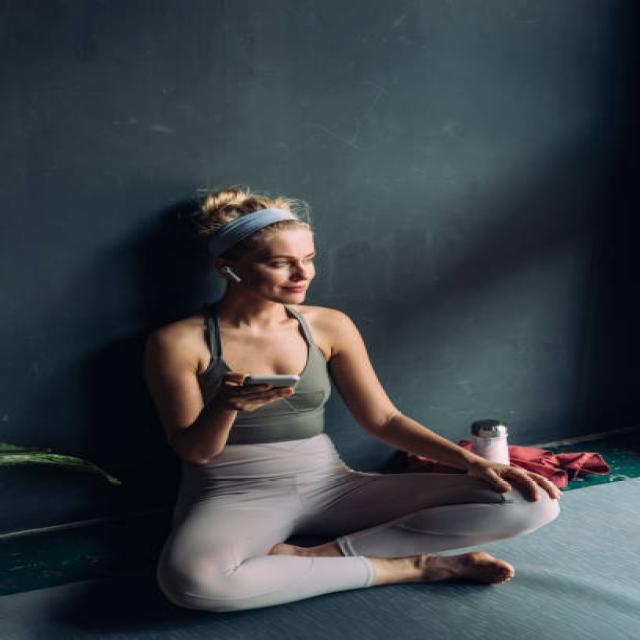airpods: (218, 264, 243, 284)
